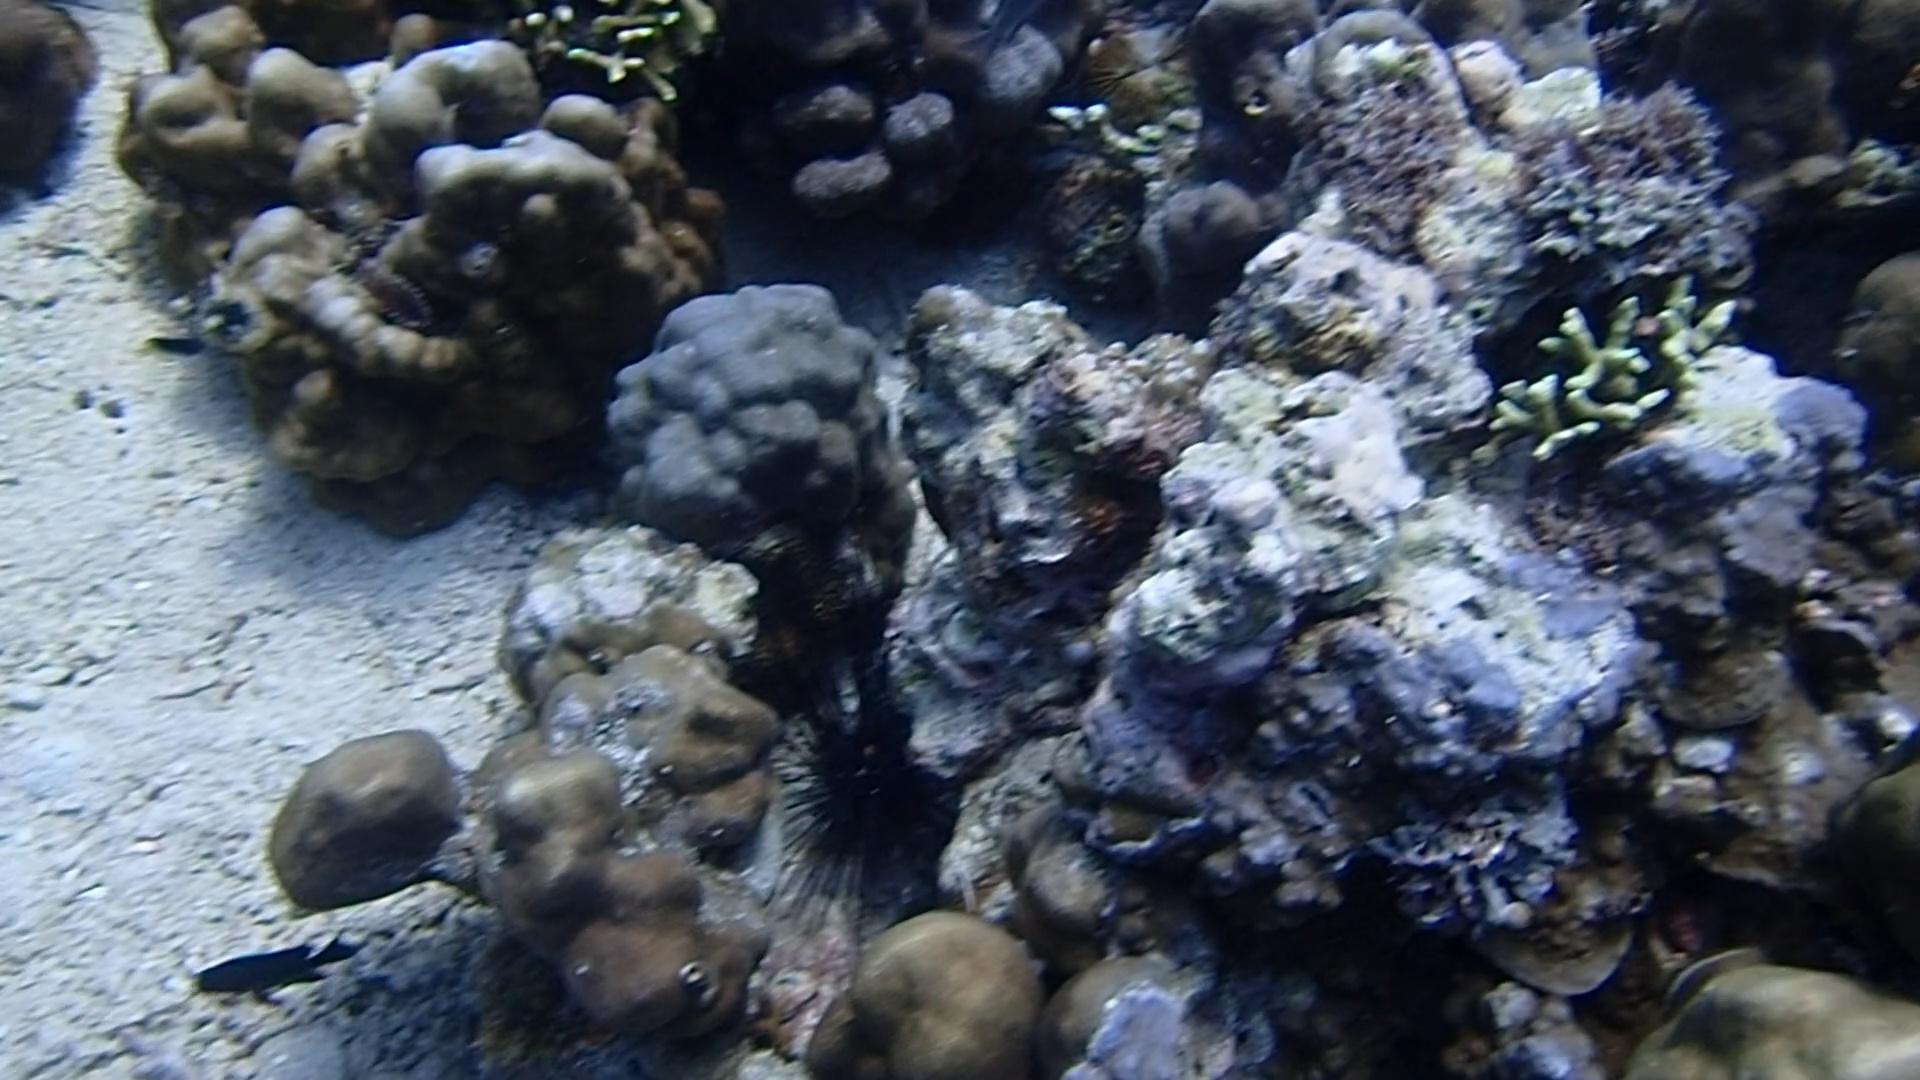Dark Fish: (175, 928, 357, 1010)
Yellow Tail: (125, 322, 210, 367)
